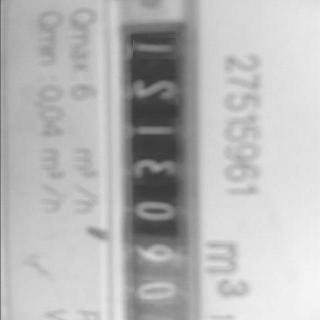1: (132, 199, 179, 223), (135, 281, 180, 304)
2: (132, 118, 177, 142), (133, 38, 176, 59)
3: (133, 75, 179, 105)
4: (132, 155, 178, 185)
:: (132, 242, 177, 263)
